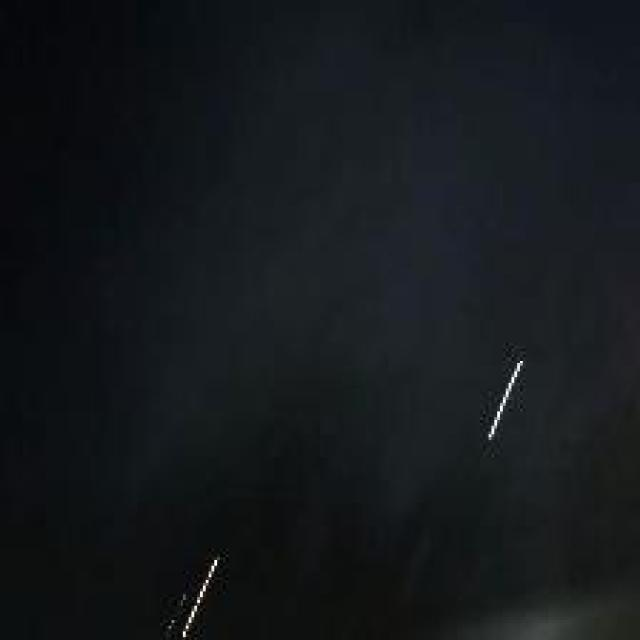other: (459, 335, 532, 456)
